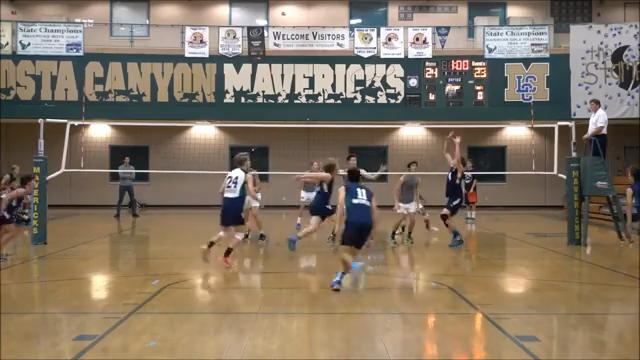Player: (202, 152, 256, 266), (331, 169, 376, 290), (288, 158, 336, 250), (0, 175, 33, 260), (390, 161, 420, 244), (244, 168, 266, 242), (338, 154, 386, 183), (339, 154, 385, 182), (626, 168, 639, 242), (296, 181, 315, 229), (417, 192, 437, 231)
Set: (435, 126, 471, 250)
